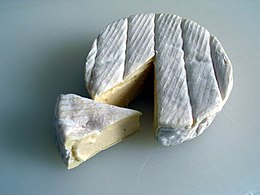camembert: (85, 11, 234, 148), (54, 92, 143, 171)
